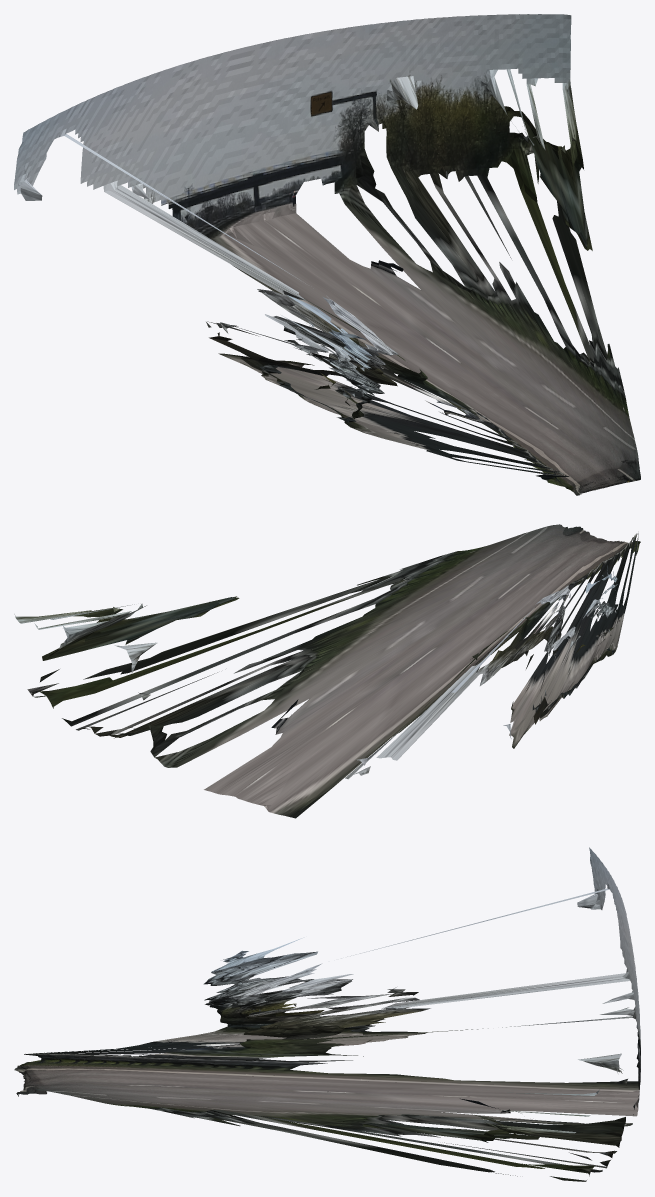
3 views of the same model, one above another, from view 1: azimuth 30°, elevation 25°; view 2: azimuth 150°, elevation 25°; view 3: azimuth 270°, elevation 25° (orthographic). The views are drawn at different scales.
Parts seen in each view (by area): view 1: defaultobject; view 2: defaultobject; view 3: defaultobject.
Boxes of the visible parts, left/top/right/bottom form: defaultobject: left=14, top=14, right=640, bottom=495; defaultobject: left=14, top=524, right=640, bottom=818; defaultobject: left=14, top=847, right=640, bottom=1181.
Size of the model in its own units: 37.62 by 12.6 by 44.87.
1 material, 1 textured.
